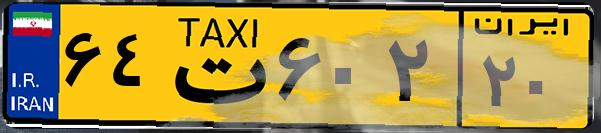0: (330, 28, 385, 110), (525, 38, 570, 115)
2: (385, 28, 445, 110), (475, 38, 525, 113)
4: (110, 28, 158, 98)
6: (270, 28, 330, 110), (57, 26, 110, 100)
ت: (158, 12, 270, 120)
